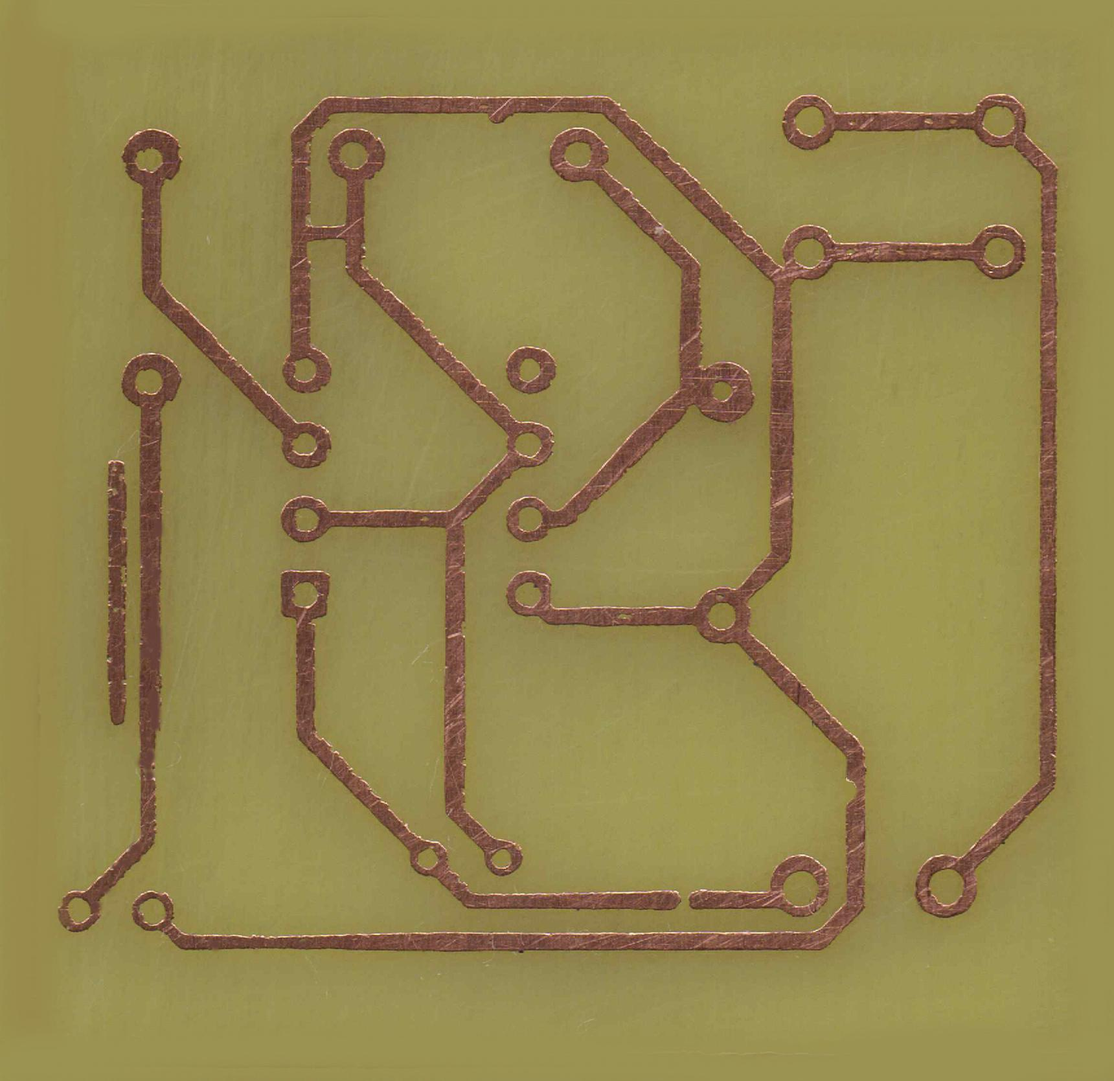missing_hole: (122, 129, 185, 183)
mouse_bite: (841, 764, 872, 817)
open_circuit: (654, 885, 716, 918)
short: (290, 218, 371, 251)
spur: (477, 87, 523, 132)
spurious_copper: (104, 460, 135, 732)
